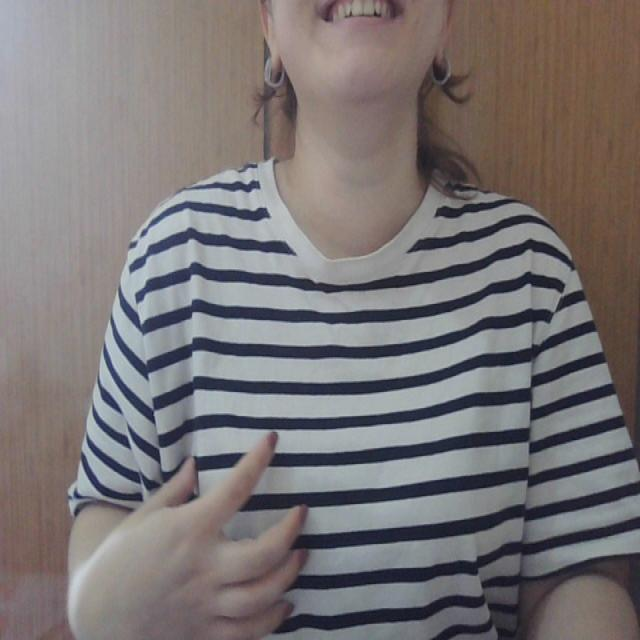Anne: (134, 422, 529, 640)
